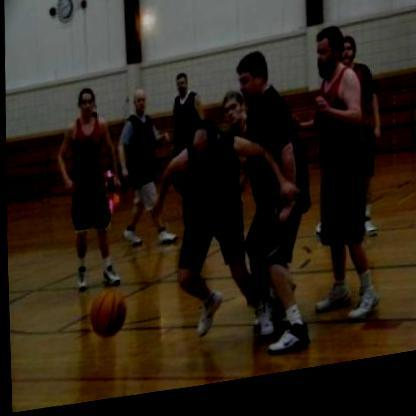basketball: (87, 290, 125, 341)
